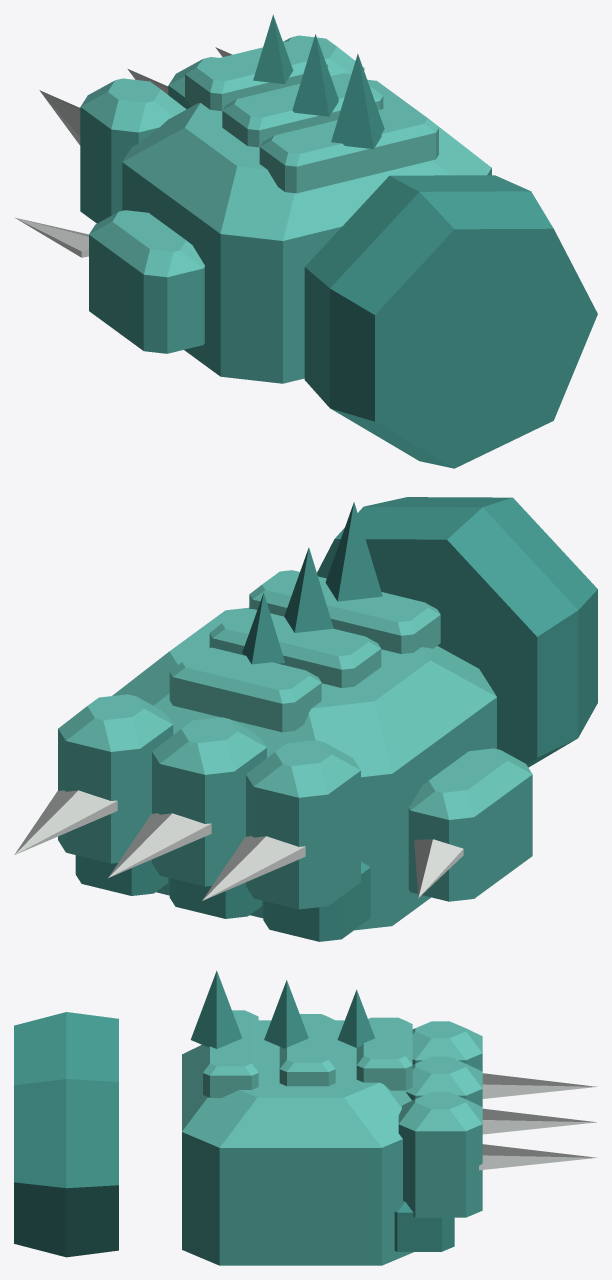
The model's file is KaijuClaw.glb.
The picture shows the model from 3 angles, top to bottom: view 1: azimuth 30°, elevation 25°; view 2: azimuth 150°, elevation 25°; view 3: azimuth 270°, elevation 25°; orthographic projection. The views are drawn at different scales.
Visible parts, largest first — view 1: KaijuClaw; view 2: KaijuClaw; view 3: KaijuClaw.
Part boxes in pixels (x1,y1,x2,y2): KaijuClaw: [14, 14, 597, 468]; KaijuClaw: [14, 497, 597, 941]; KaijuClaw: [14, 970, 597, 1265].
Bounding box in the file's own units: 9.21 × 8.71 × 16.7.
